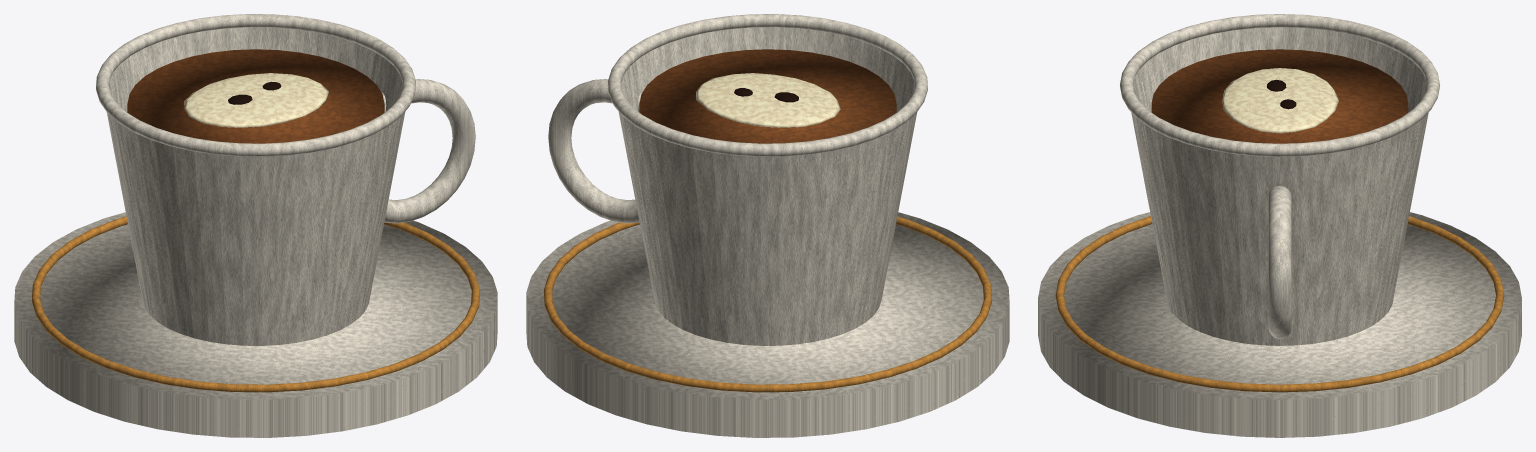
File: cafe-con-leche.glb
3 views of the same model, side by side, from view 1: azimuth 30°, elevation 25°; view 2: azimuth 150°, elevation 25°; view 3: azimuth 270°, elevation 25° (orthographic).
Visible parts, largest first — view 1: porcelain, latte, gold, foam; view 2: porcelain, latte, gold, foam; view 3: porcelain, latte, gold, foam.
Part boxes in pixels (x1,y1,x2,y2): porcelain: (14, 14, 497, 437); latte: (127, 49, 384, 143); gold: (31, 216, 480, 392); foam: (184, 73, 328, 127); porcelain: (526, 14, 1009, 437); latte: (639, 49, 896, 143); gold: (543, 216, 992, 392); foam: (696, 73, 840, 127); porcelain: (1038, 14, 1521, 437); latte: (1151, 49, 1408, 143); gold: (1055, 216, 1504, 392); foam: (1222, 68, 1338, 133).
Size of the model in its own units: 0.296 by 0.1695 by 0.29.
Materials: 5 (5 with a texture image).
